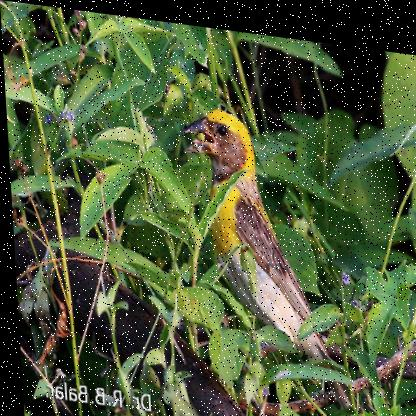Burung: (182, 98, 348, 404)
